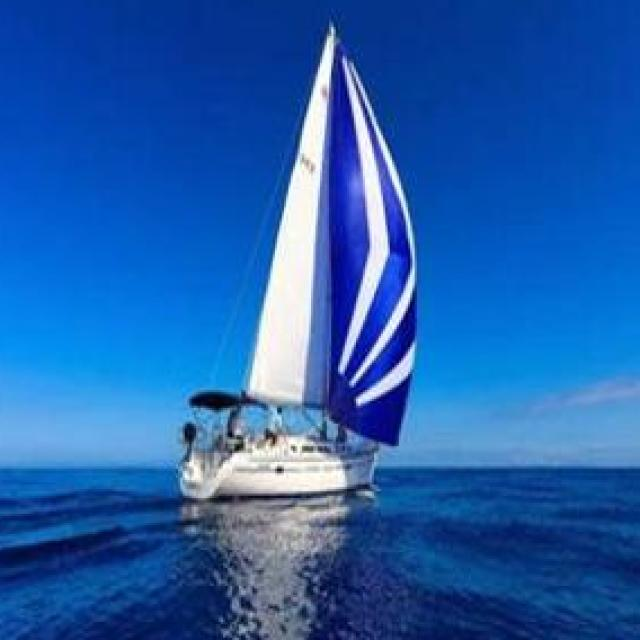sailboat: (145, 31, 446, 513)
